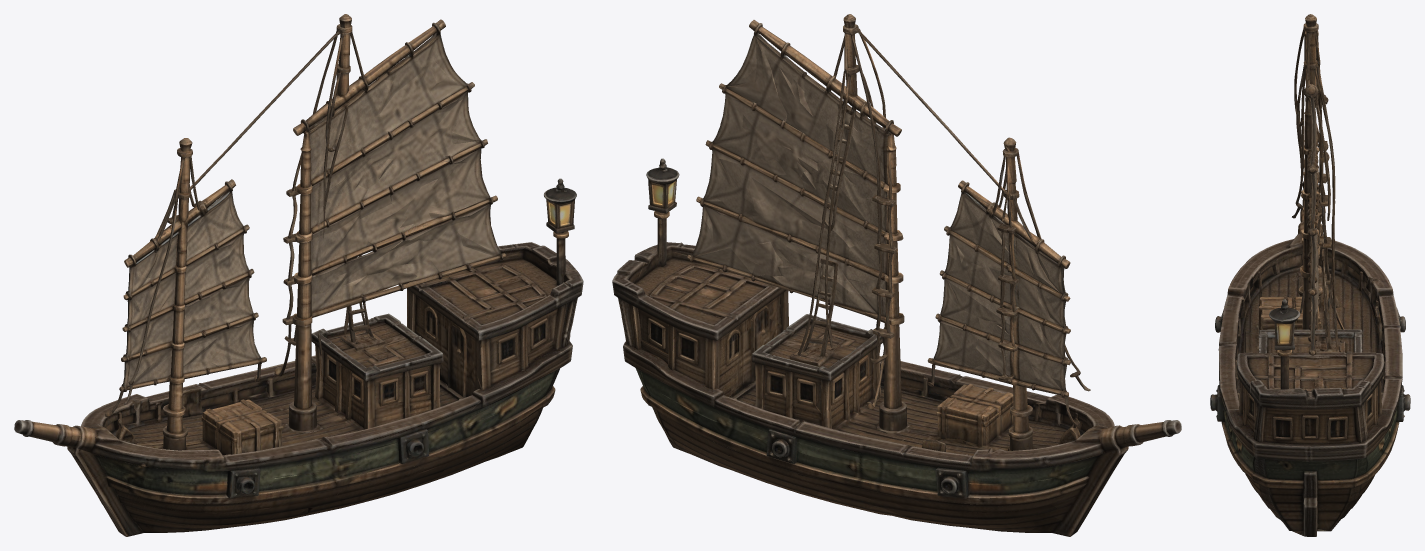
File: weathered_junk.glb
3 renders of one model, left to right at view 1: azimuth 30°, elevation 25°; view 2: azimuth 150°, elevation 25°; view 3: azimuth 270°, elevation 25°, orthographic. The views are drawn at different scales.
Parts seen in each view (by area): view 1: output_unwrapped; view 2: output_unwrapped; view 3: output_unwrapped.
Part boxes in pixels (x1=…): output_unwrapped: x1=14, y1=14, x2=583, y2=536; output_unwrapped: x1=612, y1=14, x2=1181, y2=536; output_unwrapped: x1=1210, y1=14, x2=1410, y2=536.
Size of the model in its own units: 1.9 by 1.54 by 0.6364.
Materials: 1 (1 with a texture image).
